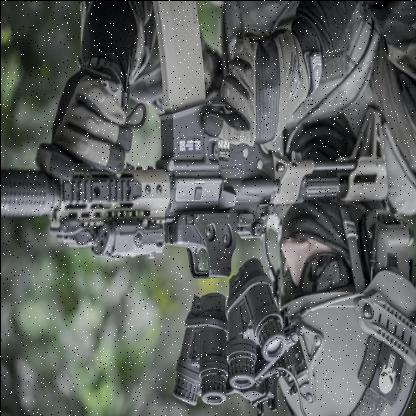rifle: (0, 1, 390, 282)
